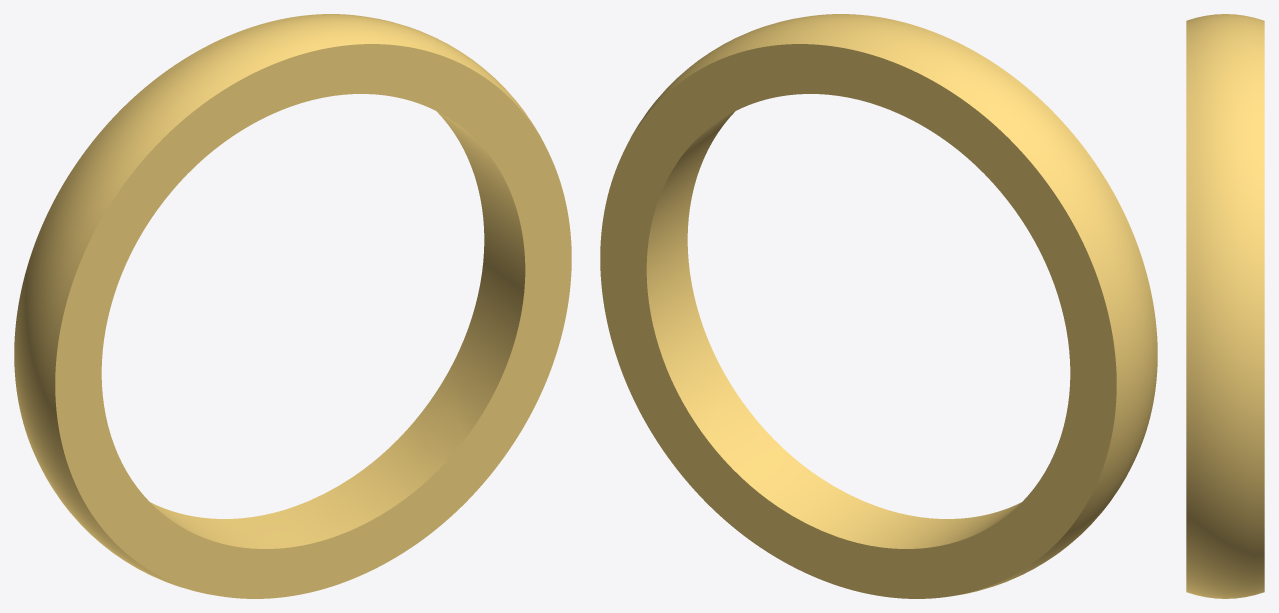
File: EmmaYGmatte.glb
3 renders of one model, left to right at view 1: azimuth 30°, elevation 25°; view 2: azimuth 150°, elevation 25°; view 3: azimuth 270°, elevation 25°, orthographic. The views are drawn at different scales.
Parts seen in each view (by area): view 1: emma YG for 3d model; view 2: emma YG for 3d model; view 3: emma YG for 3d model.
Part boxes in pixels (<box>): emma YG for 3d model: <box>14,14,571,598</box>; emma YG for 3d model: <box>600,14,1157,598</box>; emma YG for 3d model: <box>1186,14,1264,598</box>.
Size of the model in its own units: 20.1 by 20.11 by 2.7.
